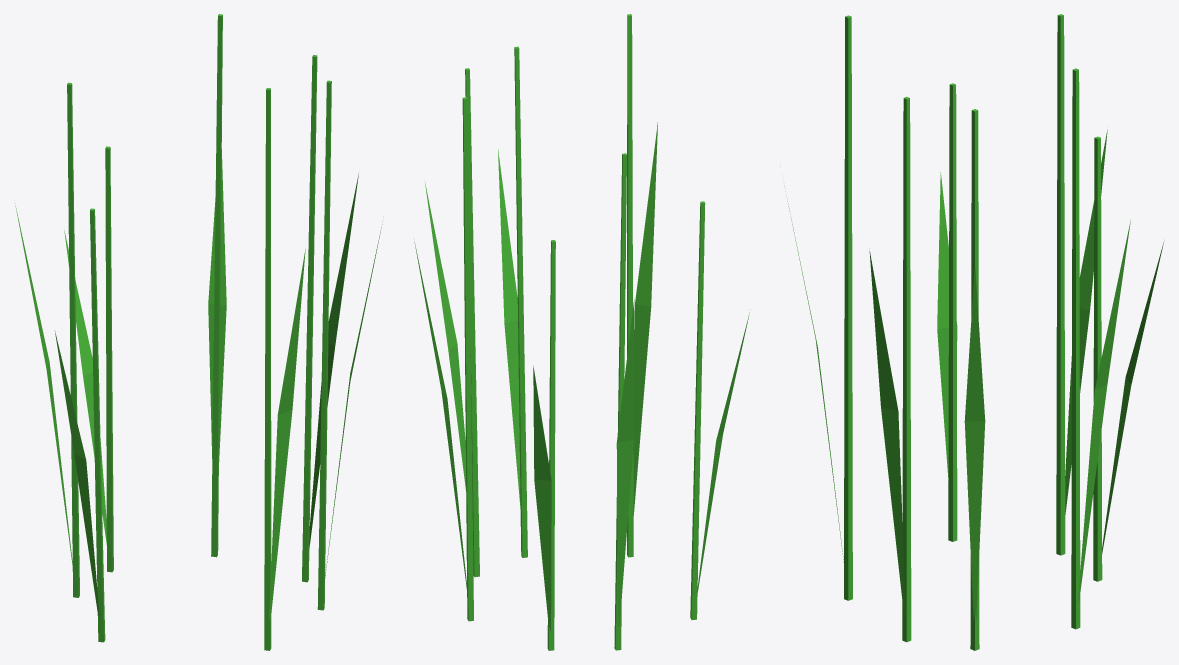
File: reed_cluster_a.fbx
The picture shows the model from 3 angles, left to right: view 1: azimuth 30°, elevation 25°; view 2: azimuth 150°, elevation 25°; view 3: azimuth 270°, elevation 25°; orthographic projection. The views are drawn at different scales.
Parts seen in each view (by area): view 1: reed_cluster_a; view 2: reed_cluster_a; view 3: reed_cluster_a.
Boxes of the visible parts, x1,y1,x2,y2 form: reed_cluster_a: (15, 14, 382, 650); reed_cluster_a: (414, 14, 749, 650); reed_cluster_a: (784, 14, 1163, 650).
Bounding box in the file's own units: 1.5 × 2.5 × 1.5.
